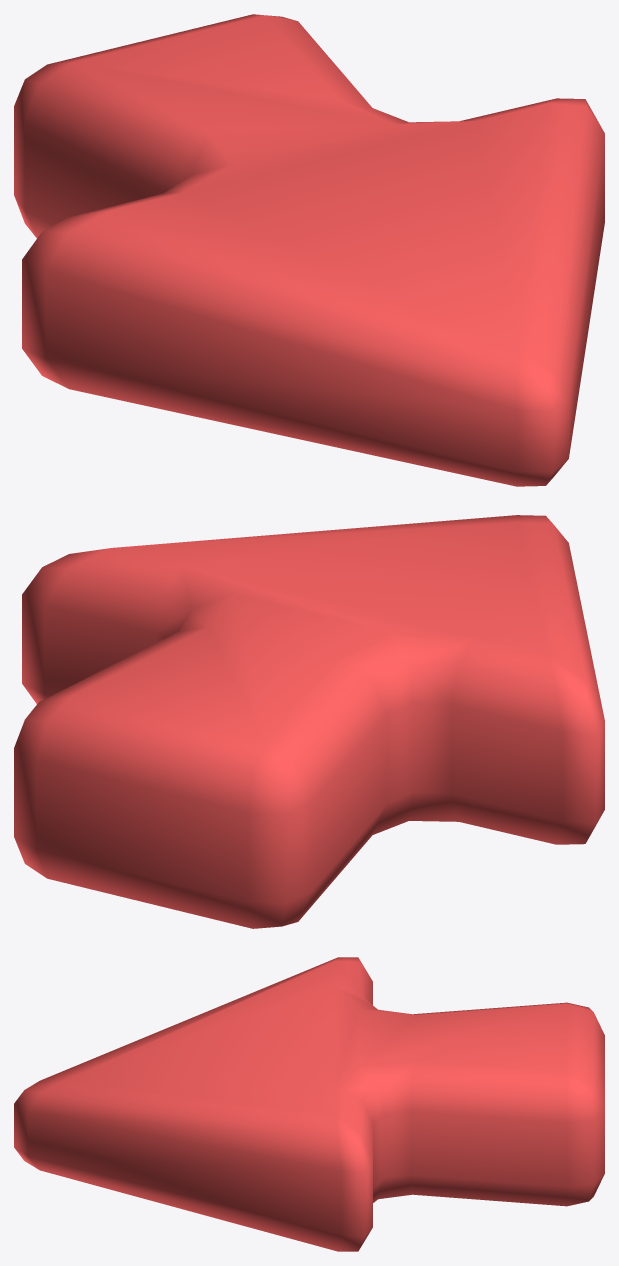
The model's file is Arrow.fbx.
3 views of the same model, one above another, from view 1: azimuth 30°, elevation 25°; view 2: azimuth 150°, elevation 25°; view 3: azimuth 270°, elevation 25° (orthographic). The views are drawn at different scales.
Parts seen in each view (by area): view 1: Plane.002; view 2: Plane.002; view 3: Plane.002.
Boxes of the visible parts, x1,y1,x2,y2 form: Plane.002: [14, 14, 604, 486]; Plane.002: [14, 515, 604, 928]; Plane.002: [14, 957, 604, 1251].
Size of the model in its own units: 57.43 by 17.66 by 71.14.
